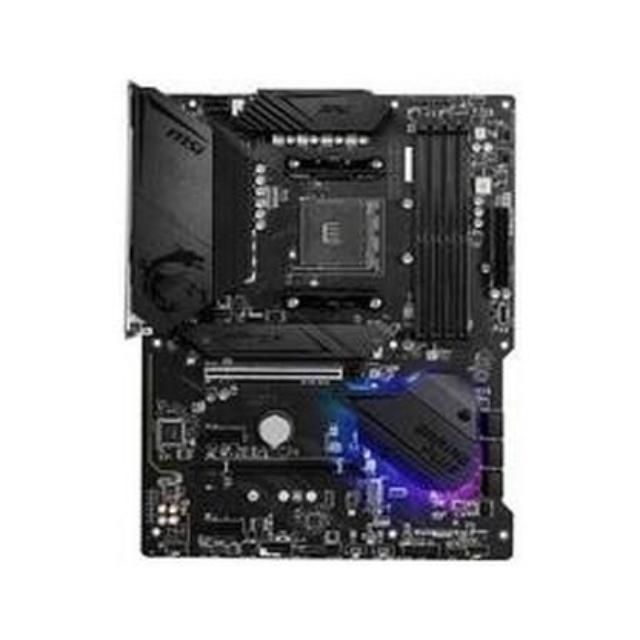Mainboard: (124, 79, 513, 567)
